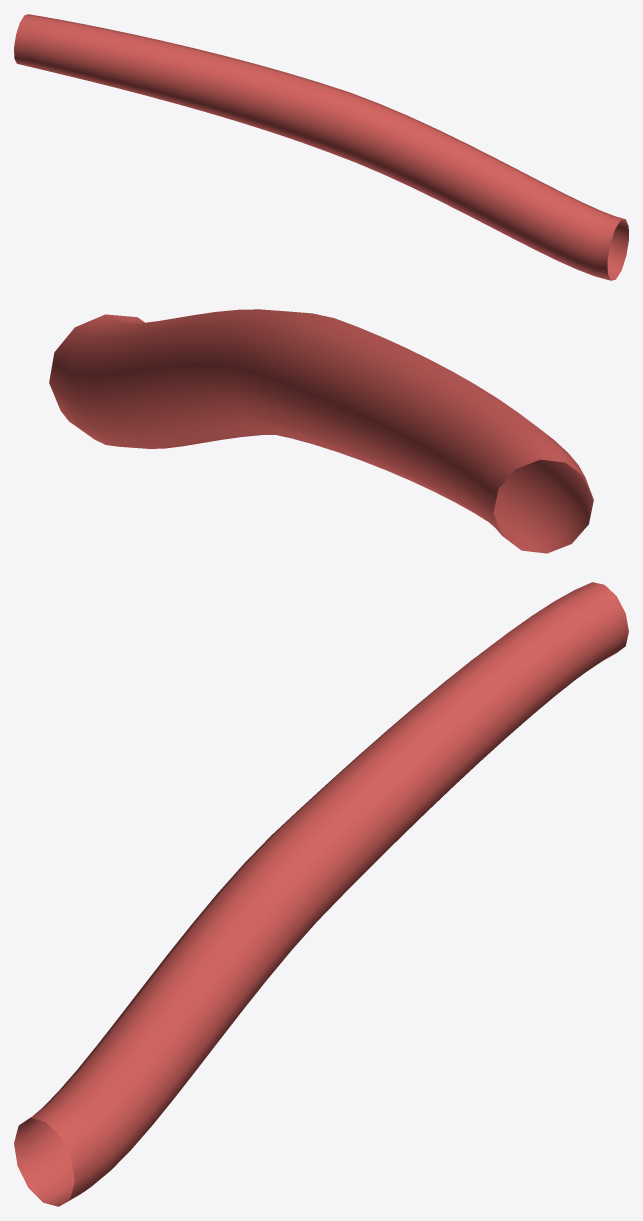
3 views of the same model, one above another, from view 1: azimuth 30°, elevation 25°; view 2: azimuth 150°, elevation 25°; view 3: azimuth 270°, elevation 25° (orthographic). The views are drawn at different scales.
Parts seen in each view (by area): view 1: 回结肠动脉回肠支; view 2: 回结肠动脉回肠支; view 3: 回结肠动脉回肠支.
Part boxes in pixels (bbox=[...]): 回结肠动脉回肠支: bbox=[14, 14, 628, 280]; 回结肠动脉回肠支: bbox=[49, 309, 593, 553]; 回结肠动脉回肠支: bbox=[14, 582, 628, 1206].
Size of the model in its own units: 0.0355 by 0.017 by 0.0289.
